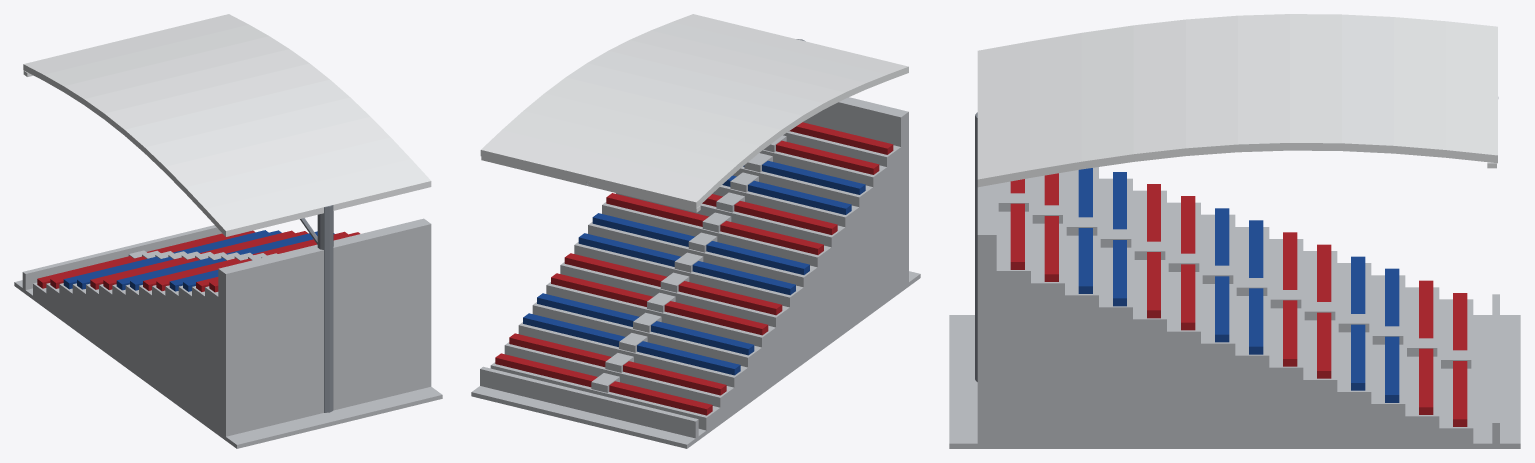
Rendered from grada-cubierta-sh.glb.
The picture shows the model from 3 angles, left to right: view 1: azimuth 30°, elevation 25°; view 2: azimuth 150°, elevation 25°; view 3: azimuth 270°, elevation 25°; orthographic projection. The views are drawn at different scales.
Parts seen in each view (by area): view 1: grada-cubierta-sh; view 2: grada-cubierta-sh; view 3: grada-cubierta-sh.
Part boxes in pixels (left/top/right/bottom): grada-cubierta-sh: left=14, top=14, right=442, bottom=448; grada-cubierta-sh: left=471, top=14, right=920, bottom=448; grada-cubierta-sh: left=949, top=14, right=1520, bottom=448.
Bounding box in the file's own units: 16 × 17.73 × 30.
